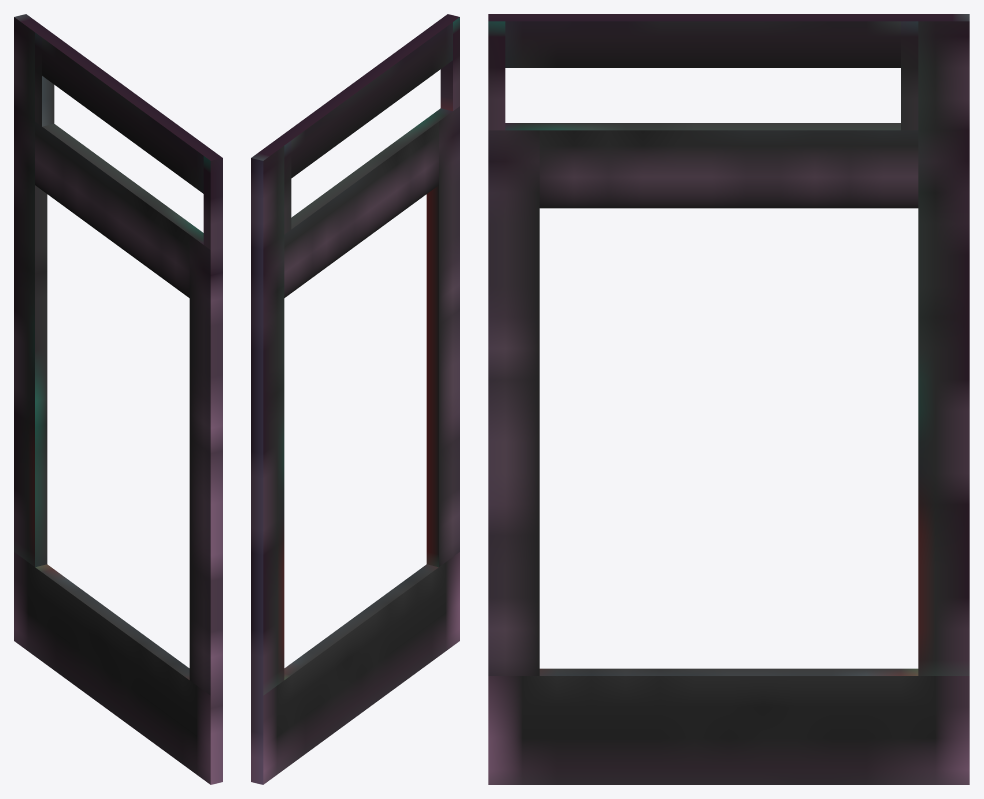
The model's file is Door_A_00.fbx.
3 renders of one model, left to right at view 1: azimuth 30°, elevation 25°; view 2: azimuth 150°, elevation 25°; view 3: azimuth 270°, elevation 25°, orthographic. The views are drawn at different scales.
Parts seen in each view (by area): view 1: Door_A_00; view 2: Door_A_00; view 3: Door_A_00.
Boxes of the visible parts, x1,y1,x2,y2 form: Door_A_00: [14, 14, 222, 784]; Door_A_00: [251, 14, 459, 784]; Door_A_00: [488, 14, 969, 784].
Bounding box in the file's own units: 5 × 245 × 140.
